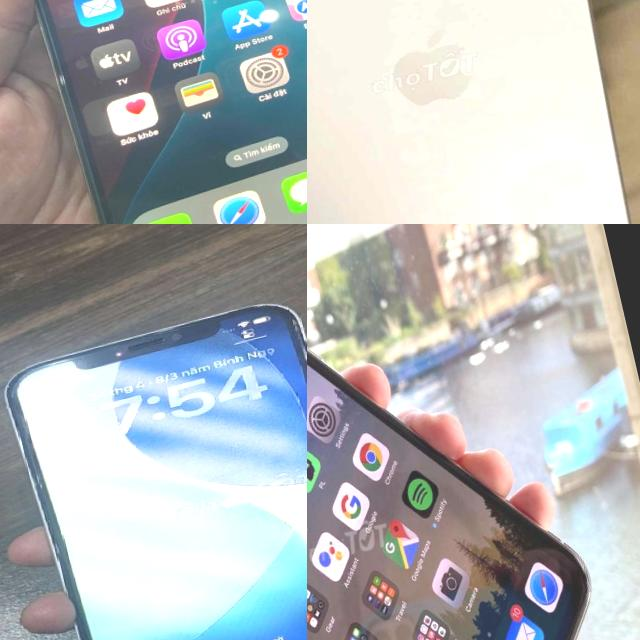gen_11: (307, 350, 588, 640)
gen_12_13: (0, 280, 307, 640), (0, 0, 307, 224)
gen_16: (307, 0, 629, 224)
